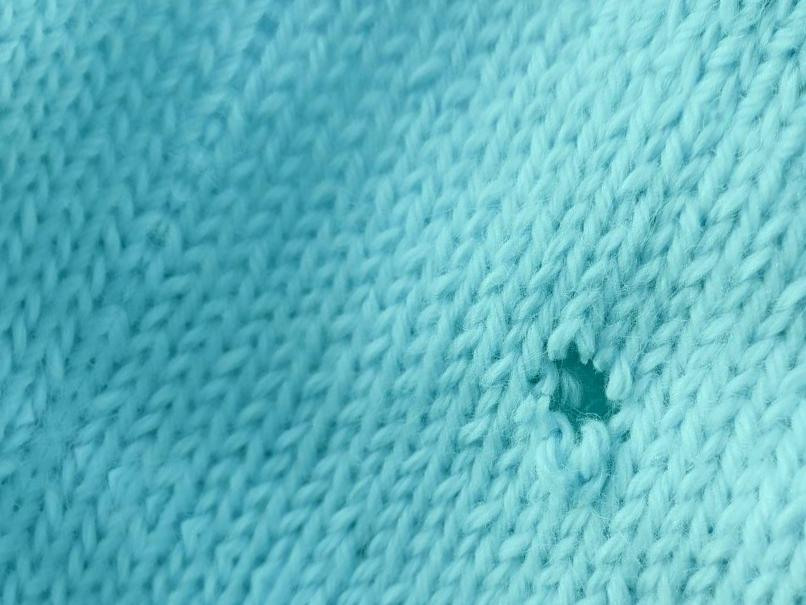hole: (524, 333, 638, 456)
